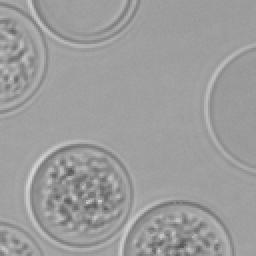picoshell: (24, 140, 132, 250), (202, 44, 254, 172), (118, 198, 232, 254), (26, 0, 138, 48), (0, 2, 46, 118), (0, 218, 46, 254)
